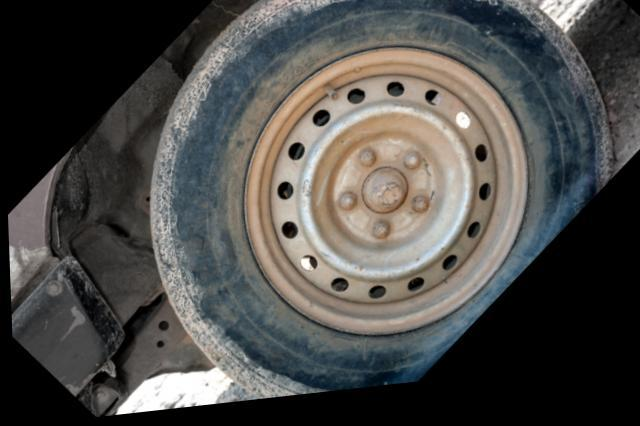tire flat: (148, 0, 614, 404)
